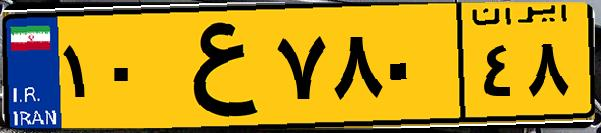0: (385, 28, 445, 110), (110, 28, 158, 98)
1: (57, 26, 110, 100)
4: (475, 38, 525, 113)
7: (270, 28, 330, 110)
8: (330, 28, 385, 110), (525, 38, 570, 115)
ع: (158, 12, 270, 120)
